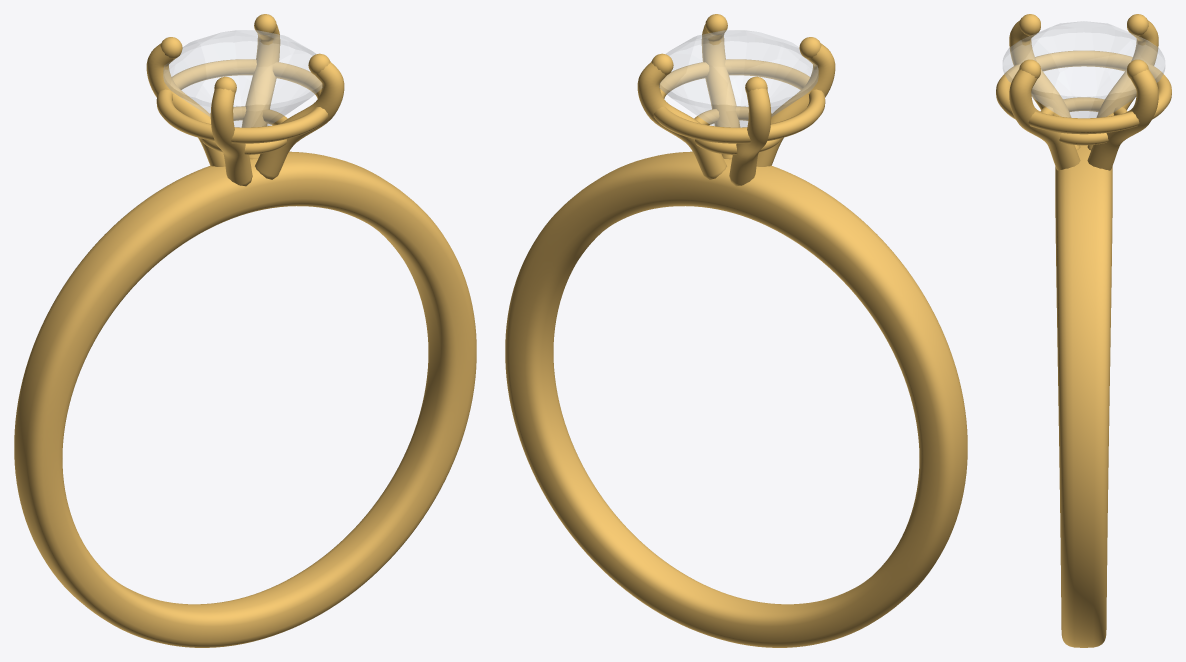
The model's file is Ring_Solitaire_Preview.glb.
3 renders of one model, left to right at view 1: azimuth 30°, elevation 25°; view 2: azimuth 150°, elevation 25°; view 3: azimuth 270°, elevation 25°, orthographic.
Parts seen in each view (by area): view 1: Band, Head_Center, PreviewGem_Center; view 2: Band, Head_Center, PreviewGem_Center; view 3: Band, Head_Center, PreviewGem_Center.
Boxes of the visible parts, <box> form: Band: <box>14,151,476,647</box>; Head_Center: <box>146,14,344,186</box>; PreviewGem_Center: <box>163,30,322,127</box>; Band: <box>505,151,967,647</box>; Head_Center: <box>637,14,835,186</box>; PreviewGem_Center: <box>659,30,818,127</box>; Band: <box>1055,145,1112,647</box>; Head_Center: <box>996,14,1171,170</box>; PreviewGem_Center: <box>1003,21,1164,117</box>.
Size of the model in its own units: 0.0205 by 0.0258 by 0.00702.
